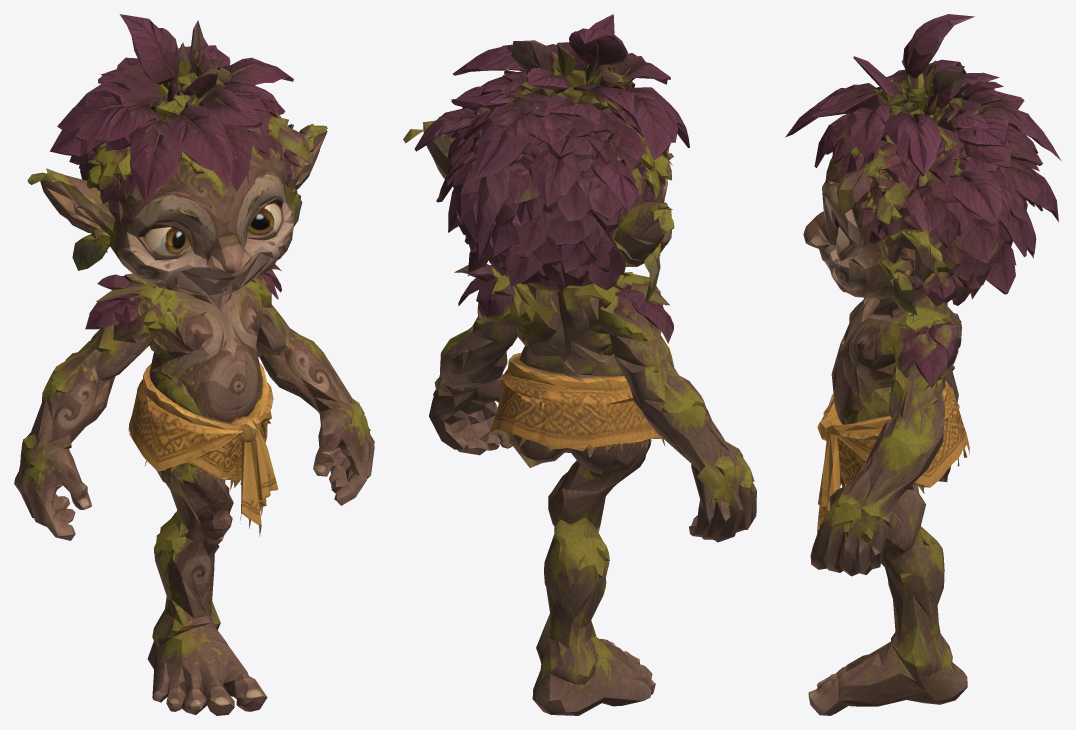
Rendered from kongkoi.glb.
The picture shows the model from 3 angles, left to right: view 1: azimuth 30°, elevation 25°; view 2: azimuth 150°, elevation 25°; view 3: azimuth 270°, elevation 25°; orthographic projection. The views are drawn at different scales.
Parts seen in each view (by area): view 1: kongkoiSource; view 2: kongkoiSource; view 3: kongkoiSource.
Boxes of the visible parts, left/top/right/bottom form: kongkoiSource: left=14, top=14, right=374, bottom=715; kongkoiSource: left=403, top=14, right=756, bottom=715; kongkoiSource: left=785, top=14, right=1061, bottom=715.
Bounding box in the file's own units: 0.9647 × 1.9 × 0.7106.
1 material, 1 textured.
